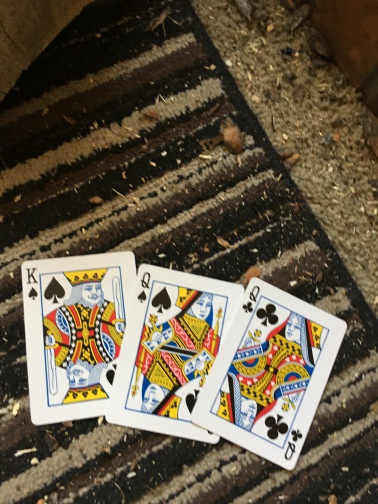king: (22, 251, 138, 424)
queen: (197, 277, 344, 468), (107, 263, 243, 442)
